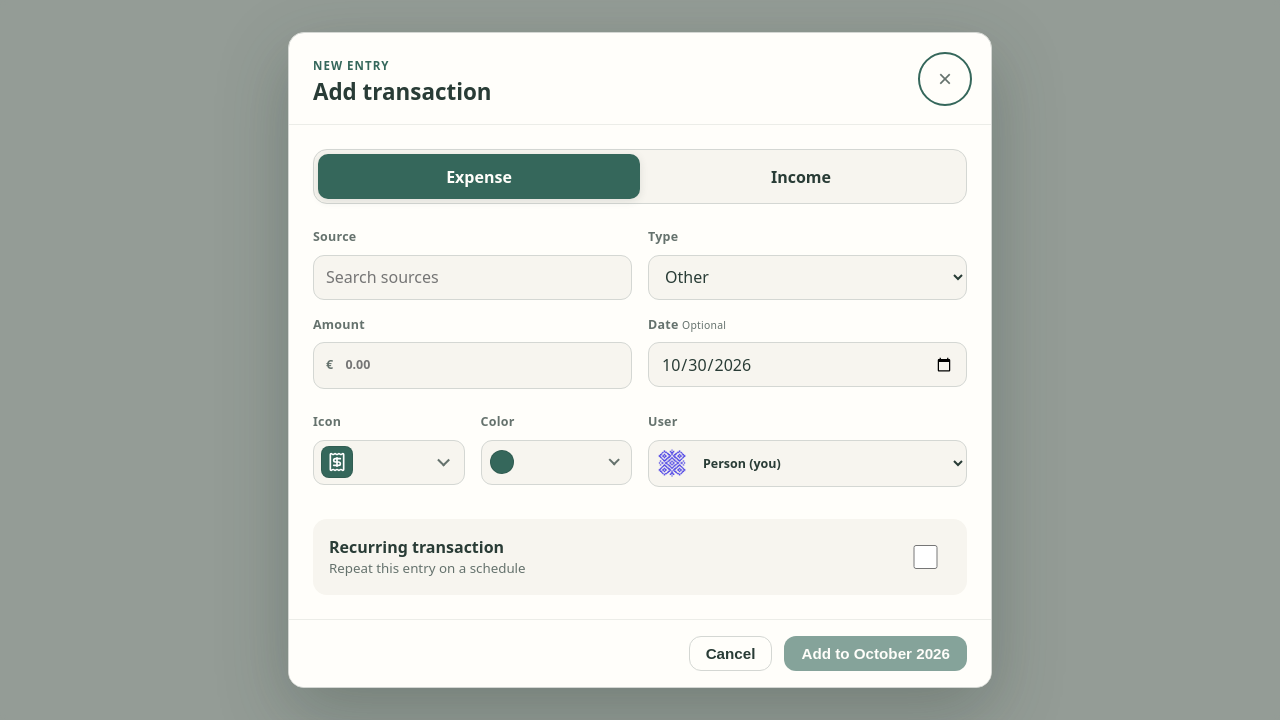
transaction form + query + HTTP client › prefills fields from the most recent transaction for a selected source
Click the dropdown labelled "Source". click: (472, 277)
box: [313,255,632,300]
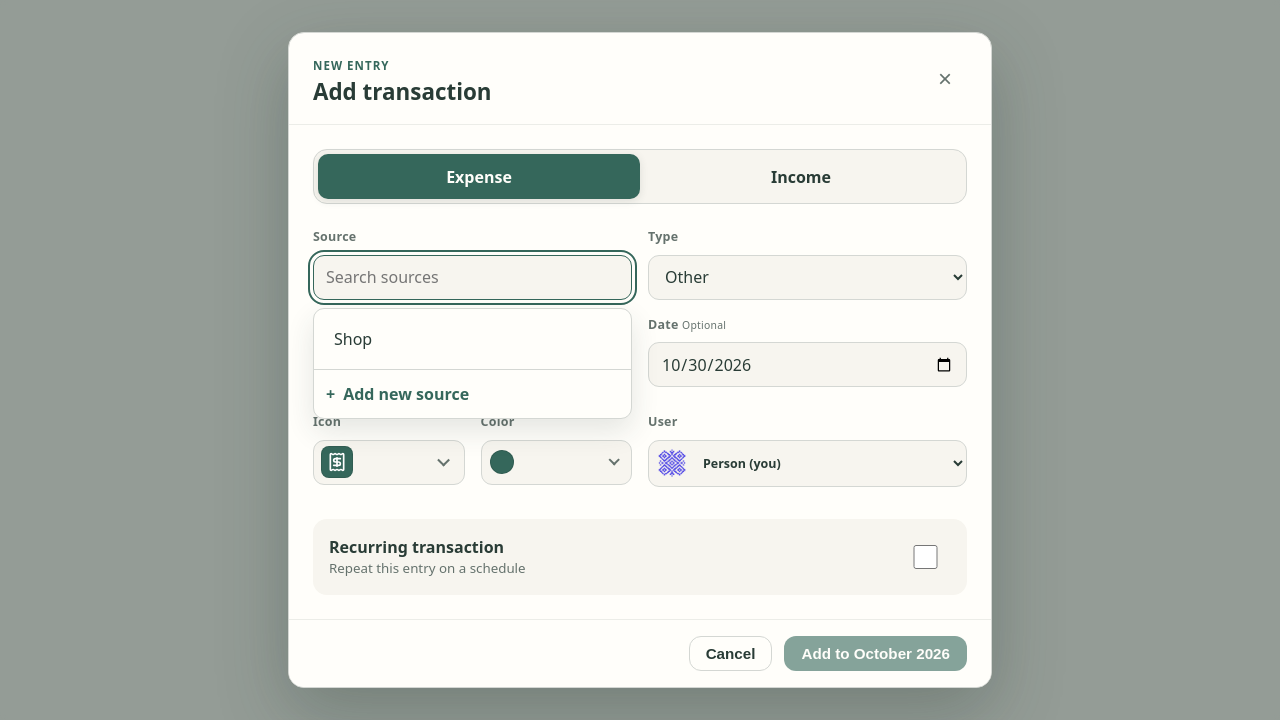
Click the option "Shop". click: (353, 339)
box: [322,317,623,361]
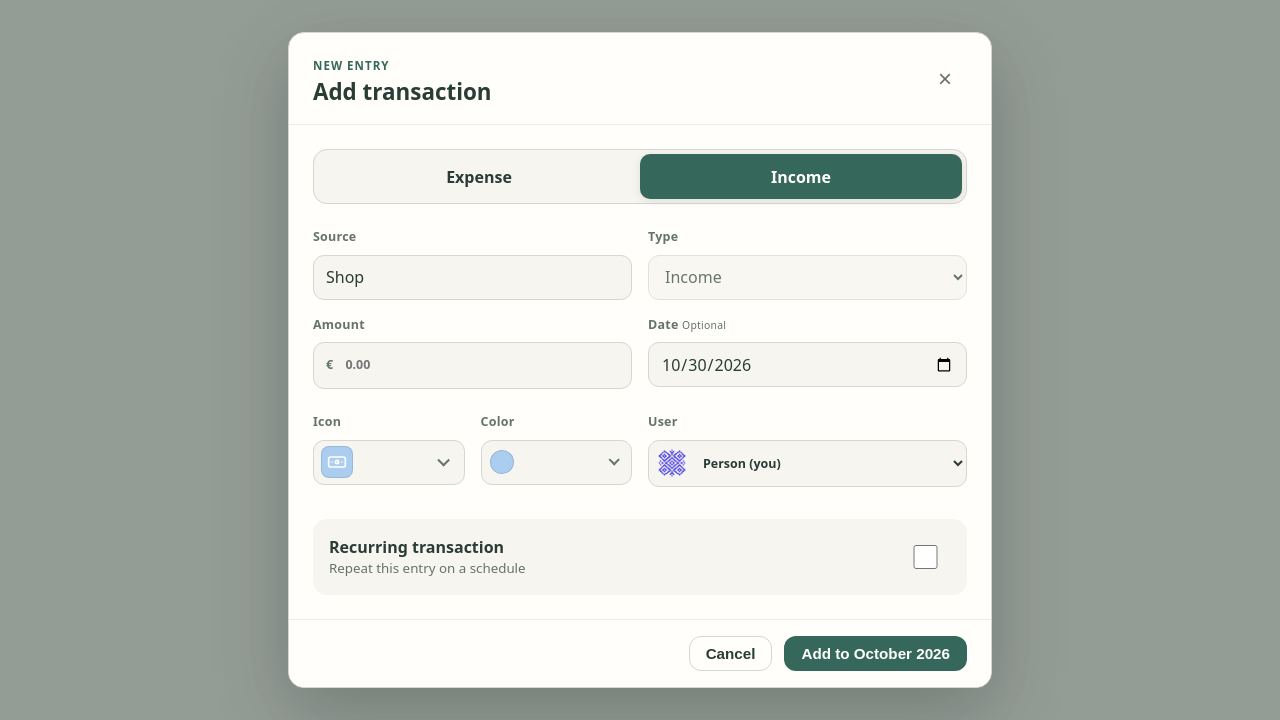
Now the radio button labelled "Income" is checked, box [771,166,831,188]
Now the dropdown labelled "Type" shows "Income", box [648,255,967,300]
Now the heading named "Icon: Banknote" is shown, box [313,440,464,485]
